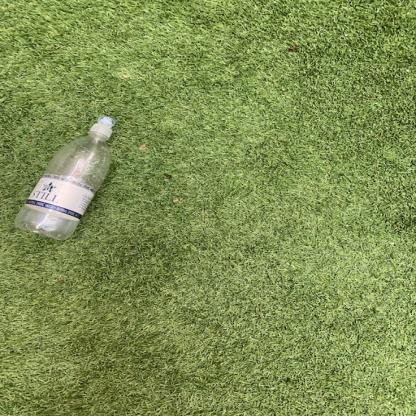trash: (12, 115, 118, 242)
